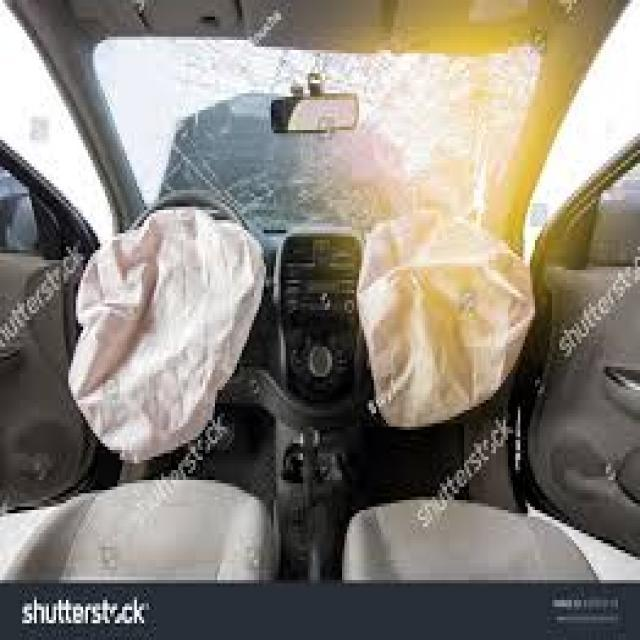damaged-windscreen: (91, 25, 545, 240)
